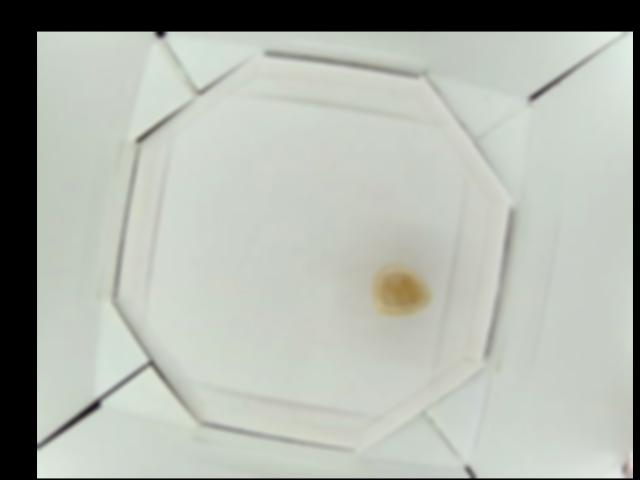Pebble: (376, 268, 433, 314)
